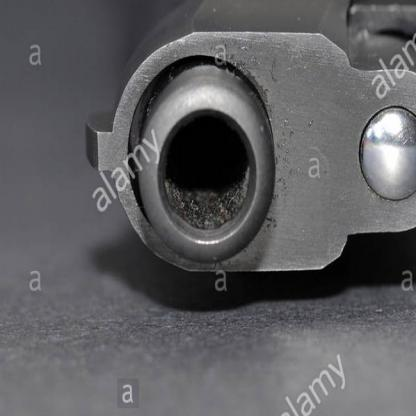gun: (84, 0, 415, 277)
